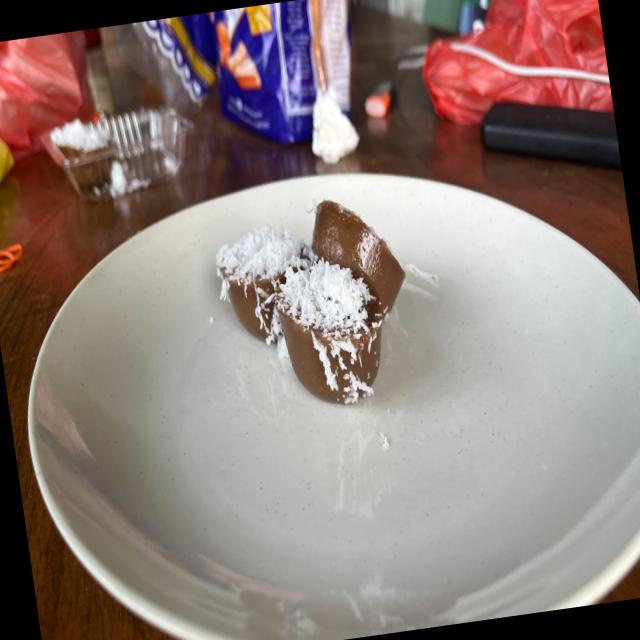Kuih lompang: (276, 257, 382, 404), (216, 224, 314, 345), (312, 200, 405, 315)
